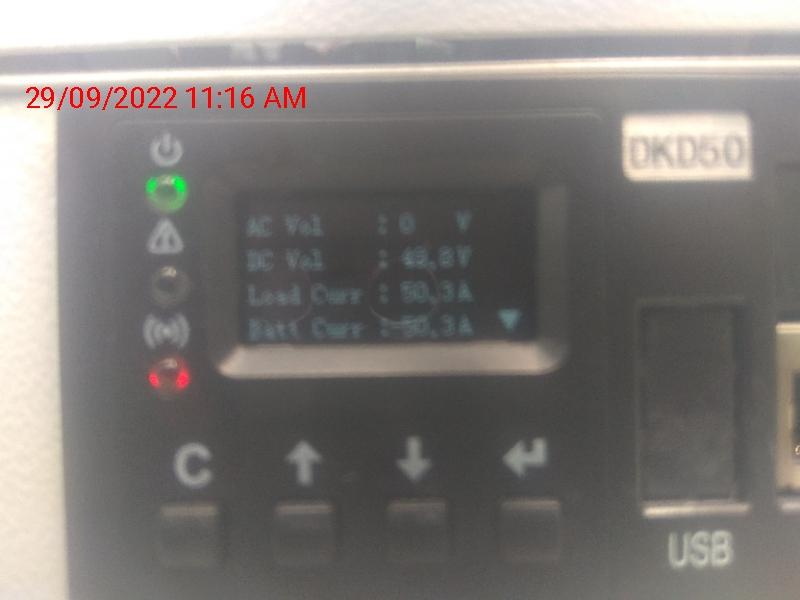NoClampMeter_Display: (231, 186, 543, 344)
